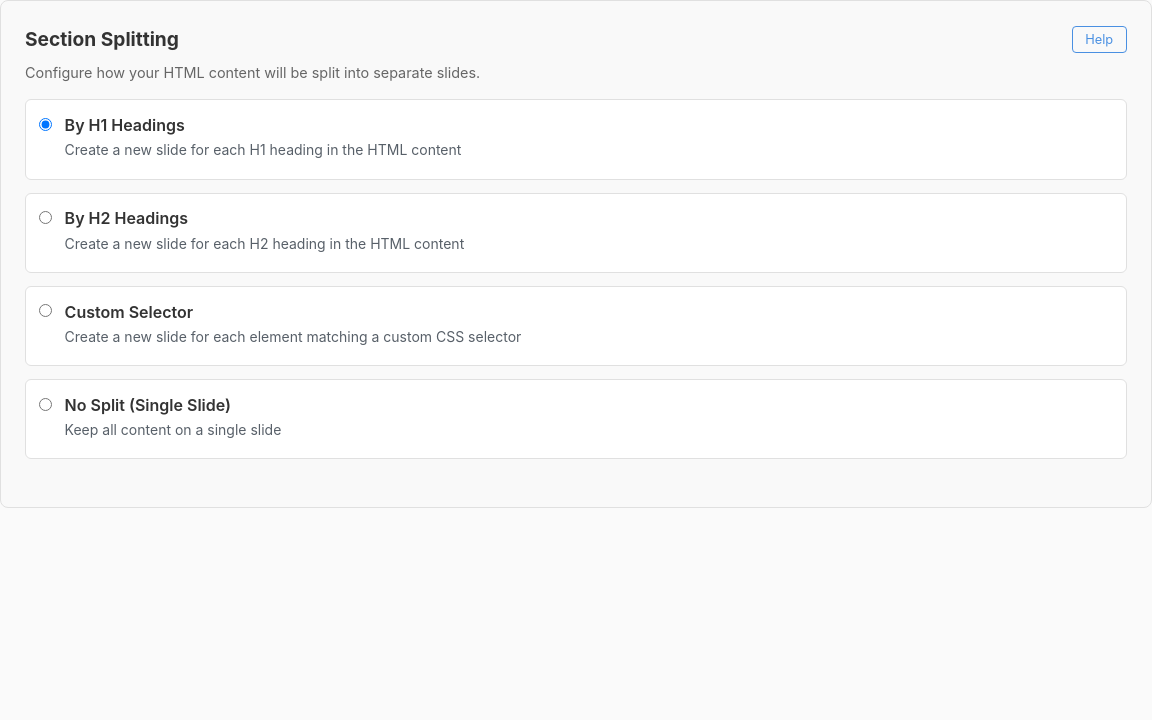
SectionSplittingConfig Component › shows custom selector input when custom selector strategy is selected
Expected: the text "Custom CSS Selector:" is not shown
Click the 3rd radio button at (45, 311), box [39, 304, 52, 317]
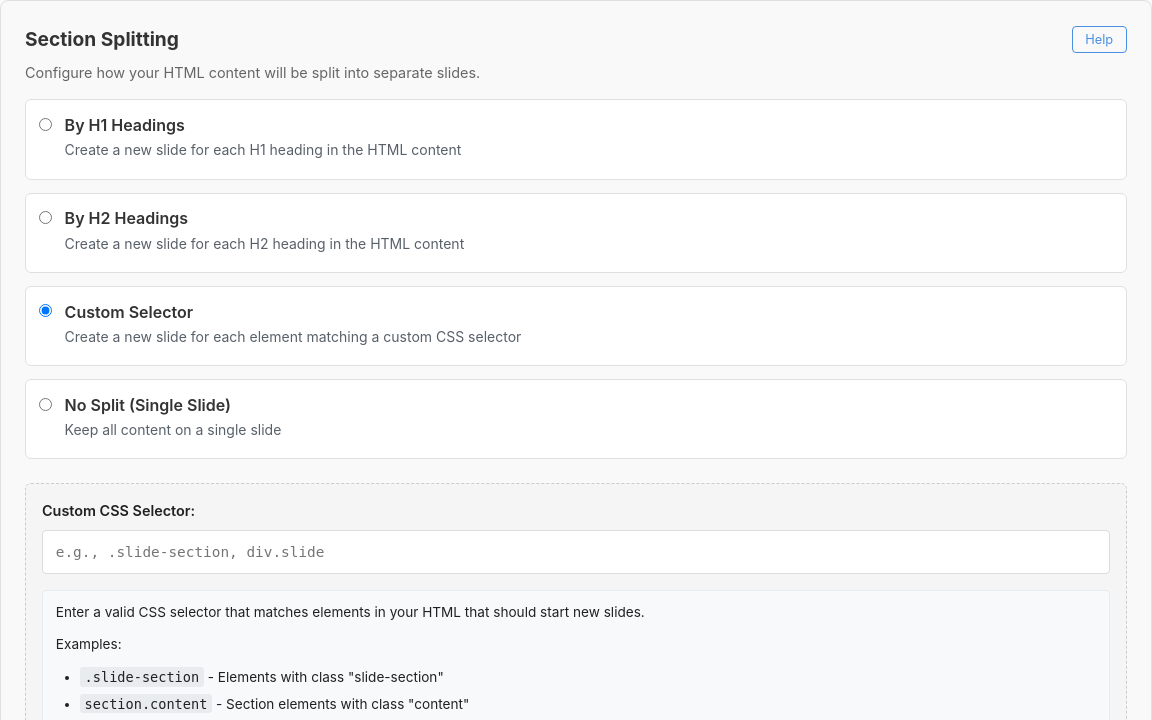
Expected: the text "Custom CSS Selector:" is shown, [42, 502, 195, 519]
